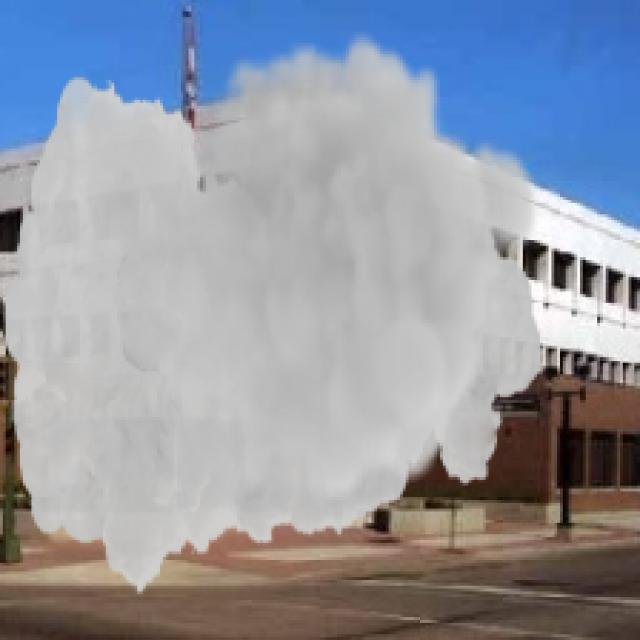smoke: (3, 32, 543, 597)
